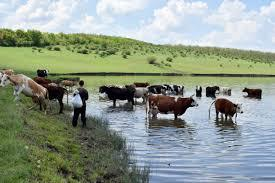cow: (0, 74, 50, 114), (145, 94, 198, 122), (97, 85, 136, 112), (215, 98, 245, 124), (45, 86, 69, 114), (163, 84, 185, 96), (243, 88, 262, 101), (63, 80, 79, 90), (205, 87, 221, 97), (218, 87, 232, 95), (37, 68, 49, 77), (133, 82, 149, 87), (197, 85, 203, 97)
